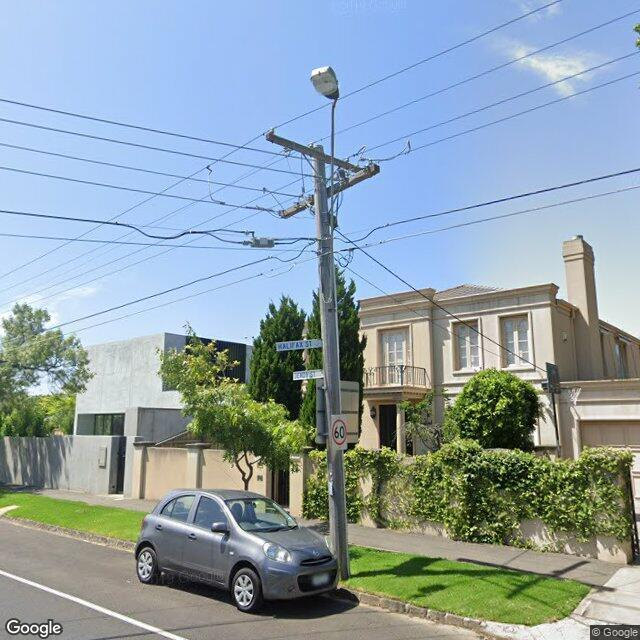crossarm: (280, 157, 382, 220), (266, 131, 363, 173)
streetlight: (310, 66, 340, 312)
timber-pole: (312, 143, 350, 580)
